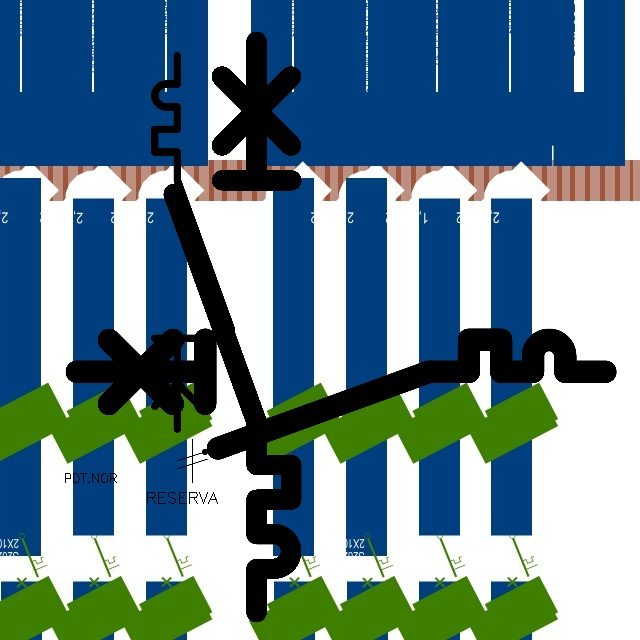interruptor_termomagnetico: (159, 27, 306, 627), (63, 326, 619, 462), (145, 46, 241, 439)
